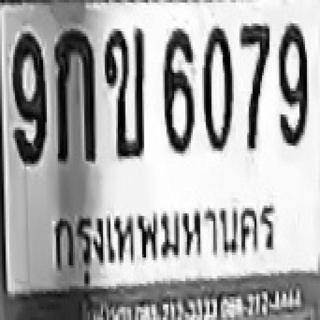A01: (53, 29, 95, 161)
A02: (103, 26, 144, 156)
N00: (202, 23, 232, 151)
N06: (162, 26, 194, 151)
N07: (240, 22, 270, 150)
N09: (11, 31, 45, 161), (277, 21, 307, 146)
P04: (48, 200, 289, 287)
